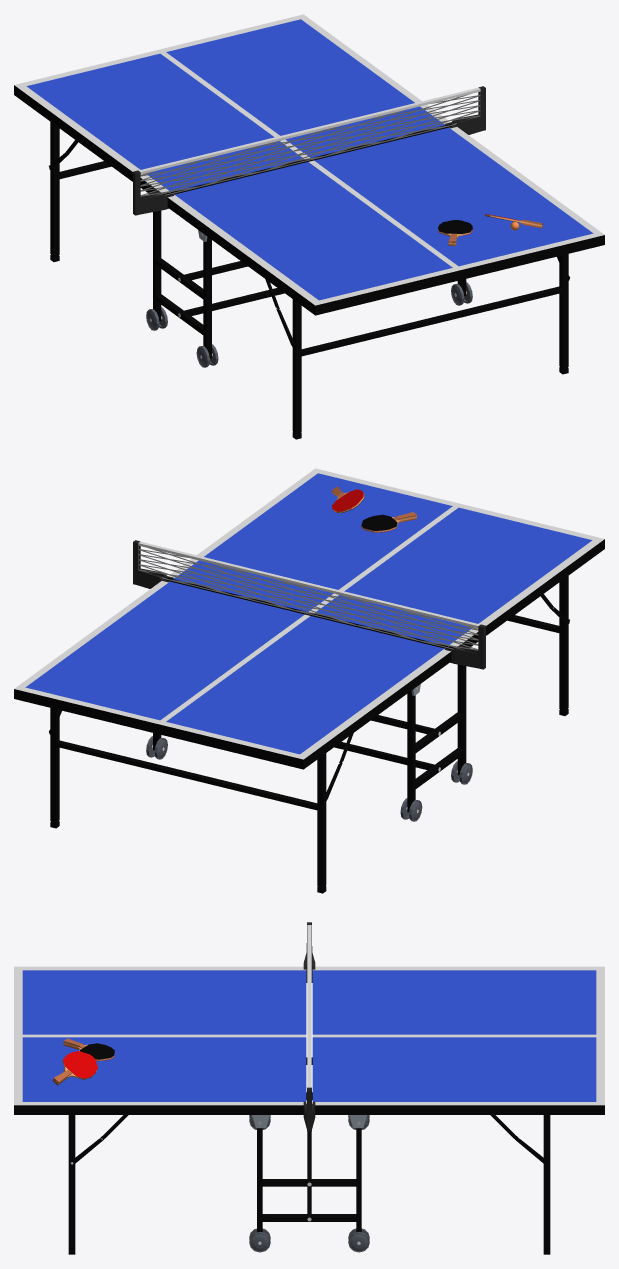
The model's file is pingpong4_lowpoly.fbx.
3 renders of one model, top to bottom at view 1: azimuth 30°, elevation 25°; view 2: azimuth 150°, elevation 25°; view 3: azimuth 270°, elevation 25°, orthographic.
Parts seen in each view (by area): view 1: Table, under_table2, Plane, under_table, Table_net.001, wheel1; view 2: Table, under_table2, Plane, under_table, Table_net.001, wheel1; view 3: Table, under_table, under_table2, Table_net.001, wheel1, pad_rubber.
Part boxes in pixels (<box>): Table: <box>14,14,604,315</box>; under_table2: <box>50,122,568,439</box>; Plane: <box>140,91,480,196</box>; under_table: <box>153,210,466,358</box>; Table_net.001: <box>133,86,485,215</box>; wheel1: <box>146,282,472,367</box>; Table: <box>14,468,604,769</box>; under_table2: <box>50,576,568,893</box>; Plane: <box>138,545,478,650</box>; under_table: <box>153,664,466,812</box>; Table_net.001: <box>133,540,485,669</box>; wheel1: <box>146,736,472,821</box>; Table: <box>14,966,604,1114</box>; under_table: <box>257,1057,361,1232</box>; under_table2: <box>68,1115,550,1254</box>; Table_net.001: <box>303,922,315,1131</box>; wheel1: <box>249,1115,369,1252</box>; pad_rubber: <box>63,1051,97,1079</box>.
Bounding box in the file's own units: 184 × 93.63 × 274.
